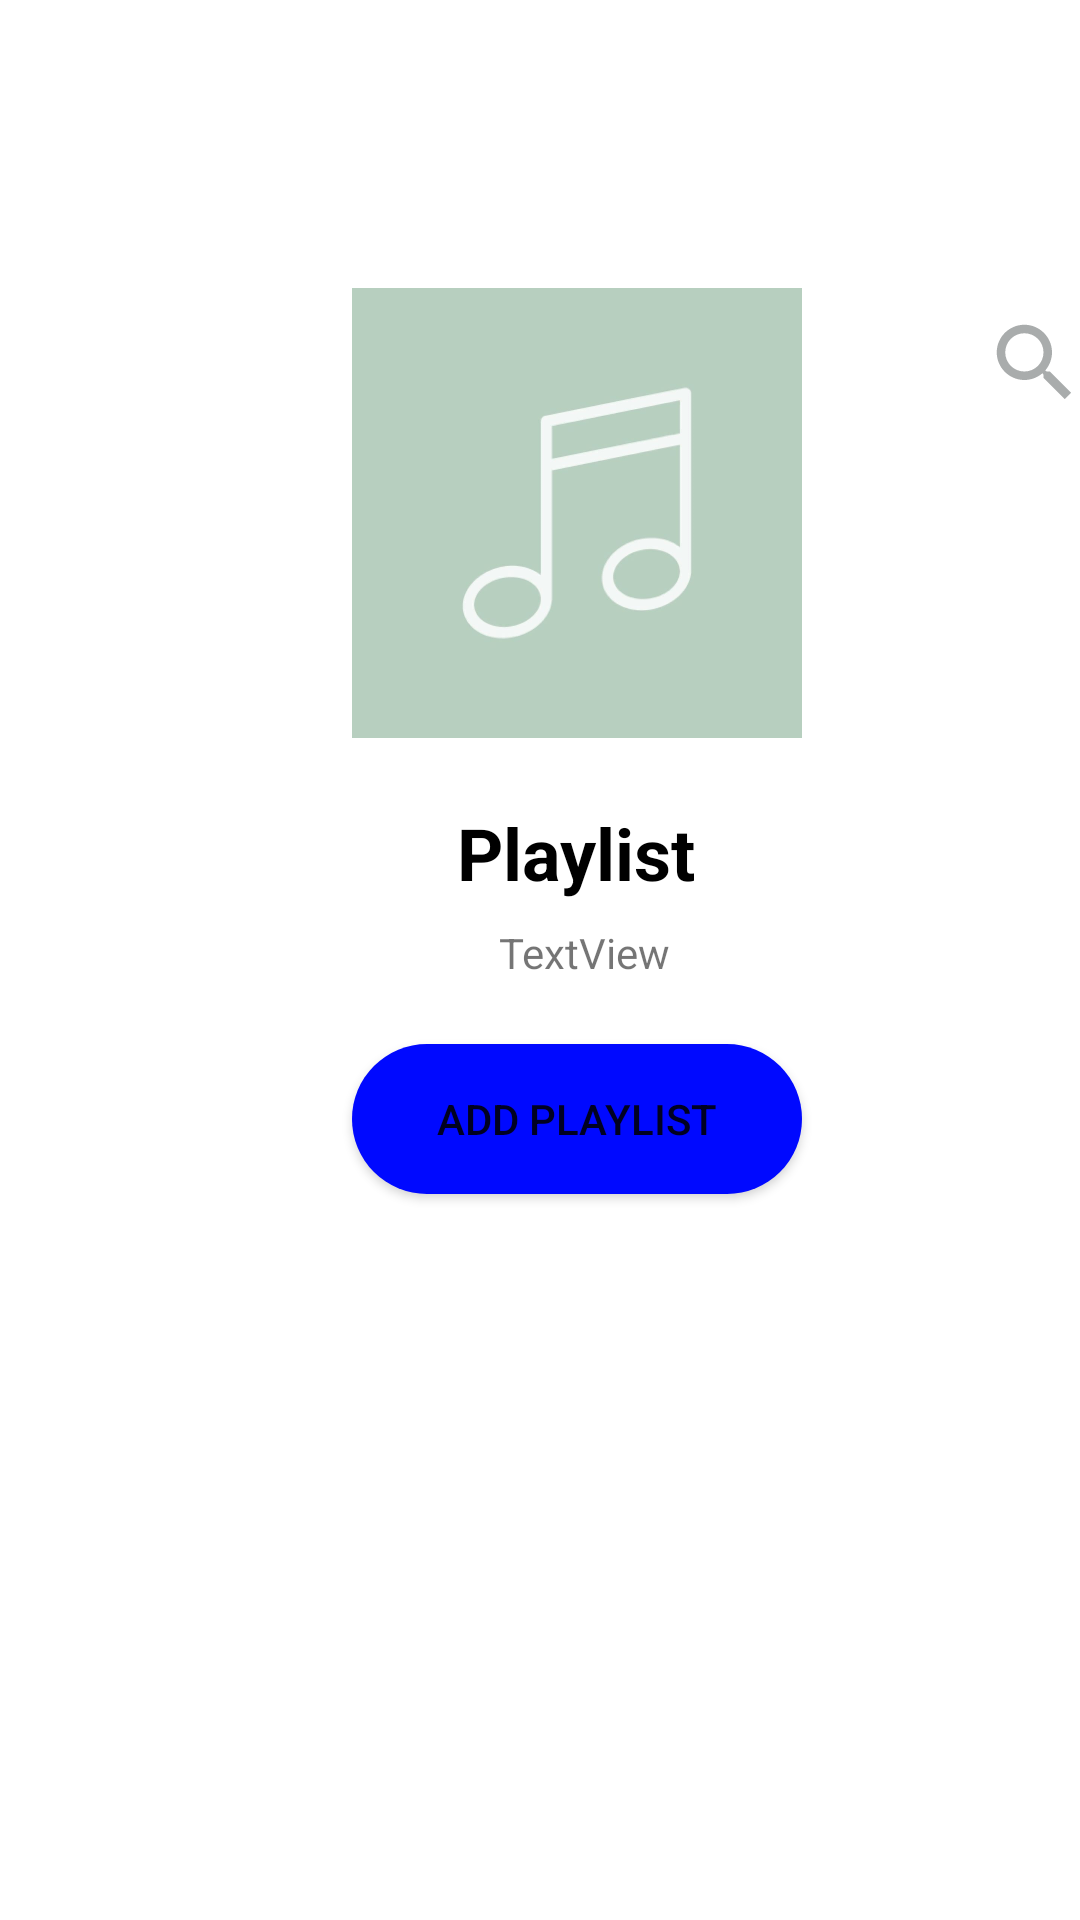

Named icons in this screenshot (1080 × 1920) and their centers, (x,y):
search: (1034,362)
